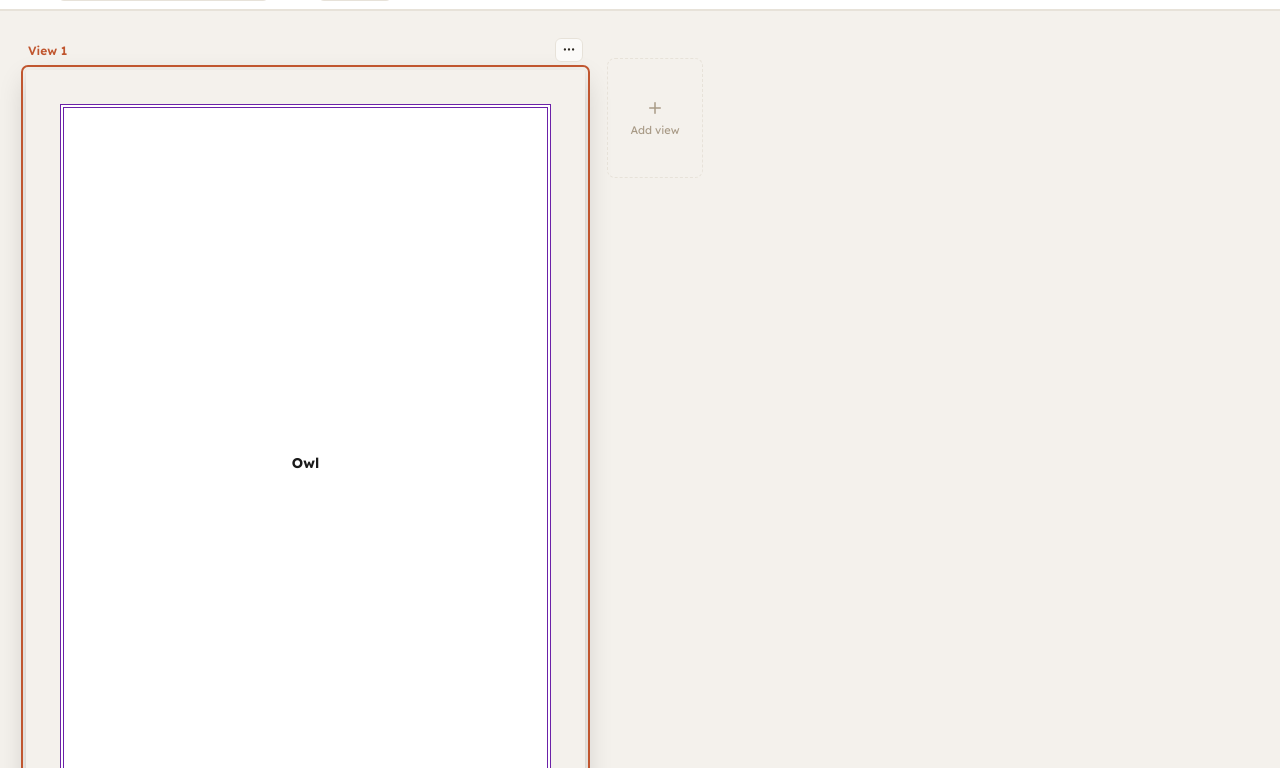
Test case: CardPreview — views › the "Add view" tile adds a 2nd view, shown side by side, and makes it active
Step 1. Click the button "Add view" → x=655, y=118, box [607,58,703,178]
(page scrolled)
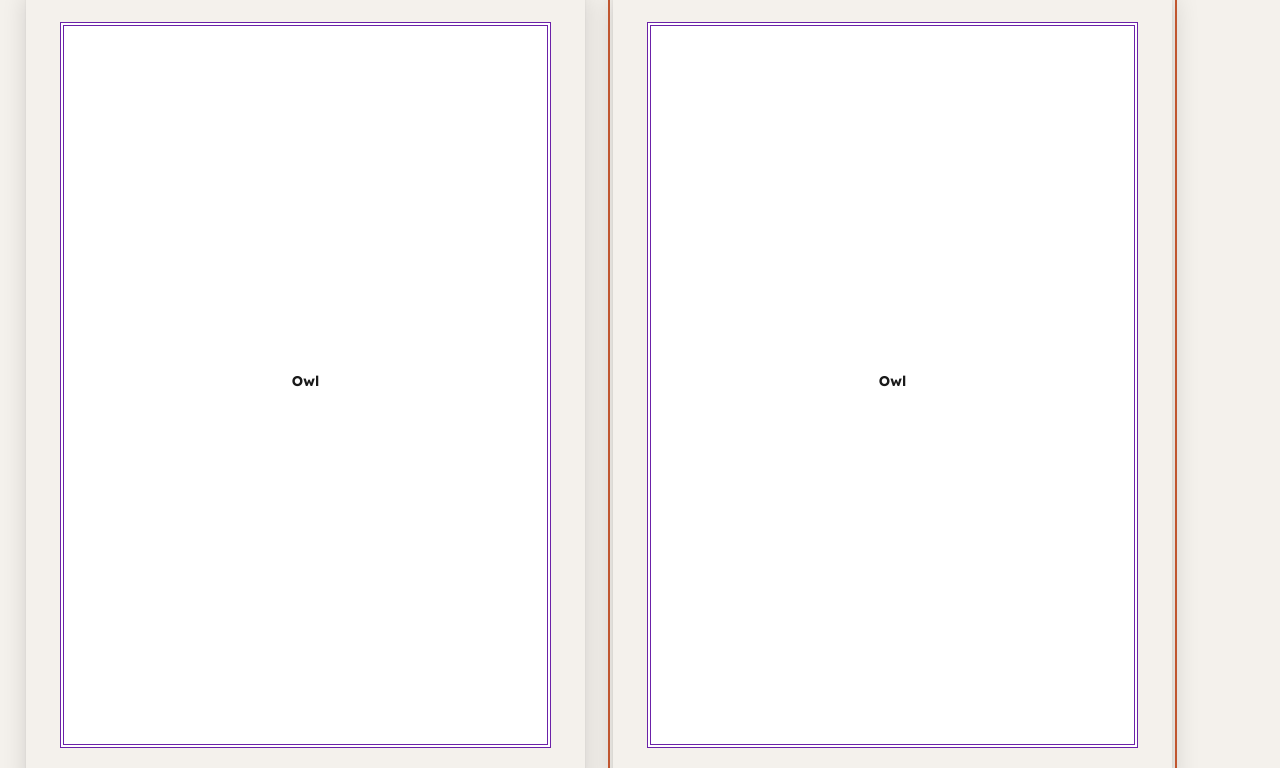
Now the number of elements with class "fc-card" is 2, box [60,22,551,748]; [647,22,1138,748]
